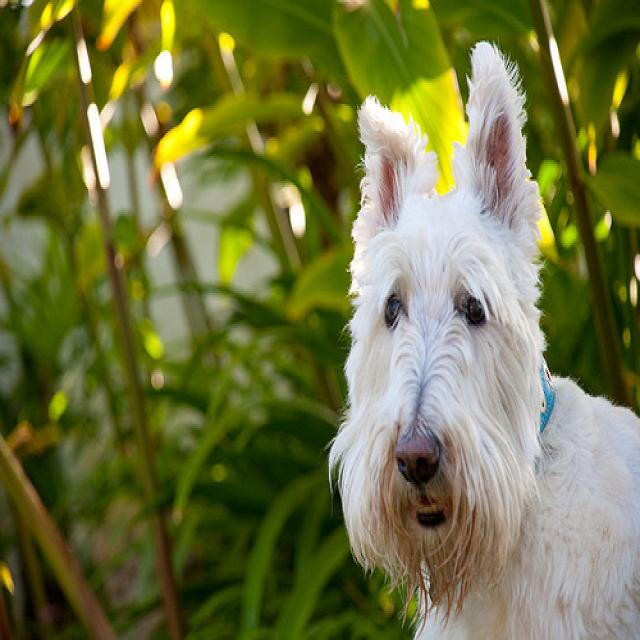dog-scottish_terrier: (320, 27, 637, 636)
